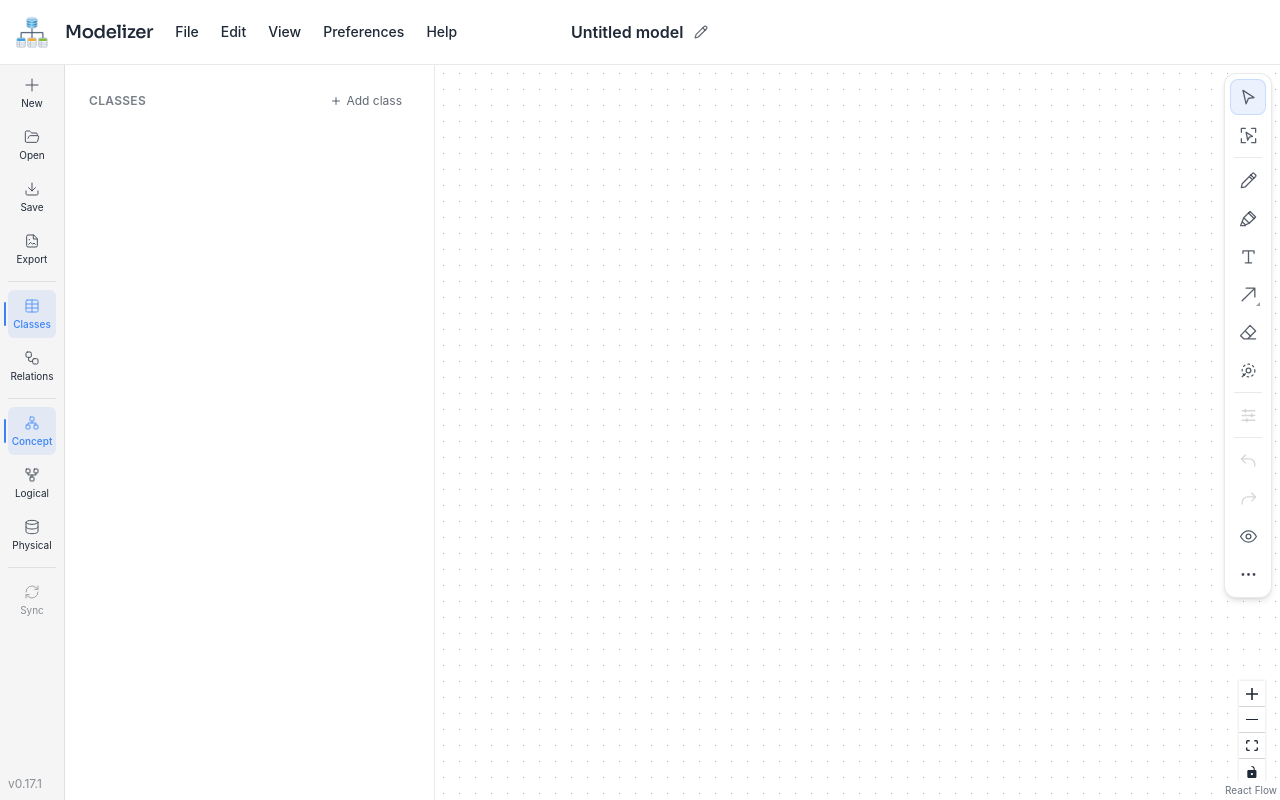
Scenario: annotation editor integration › returns to a clean model after undoing the only annotation
The width and height of the screenshot is (1280, 800).
Step 1. Click the button named "Choose shape" → (1248,294), box left=1230, top=276, right=1266, bottom=312
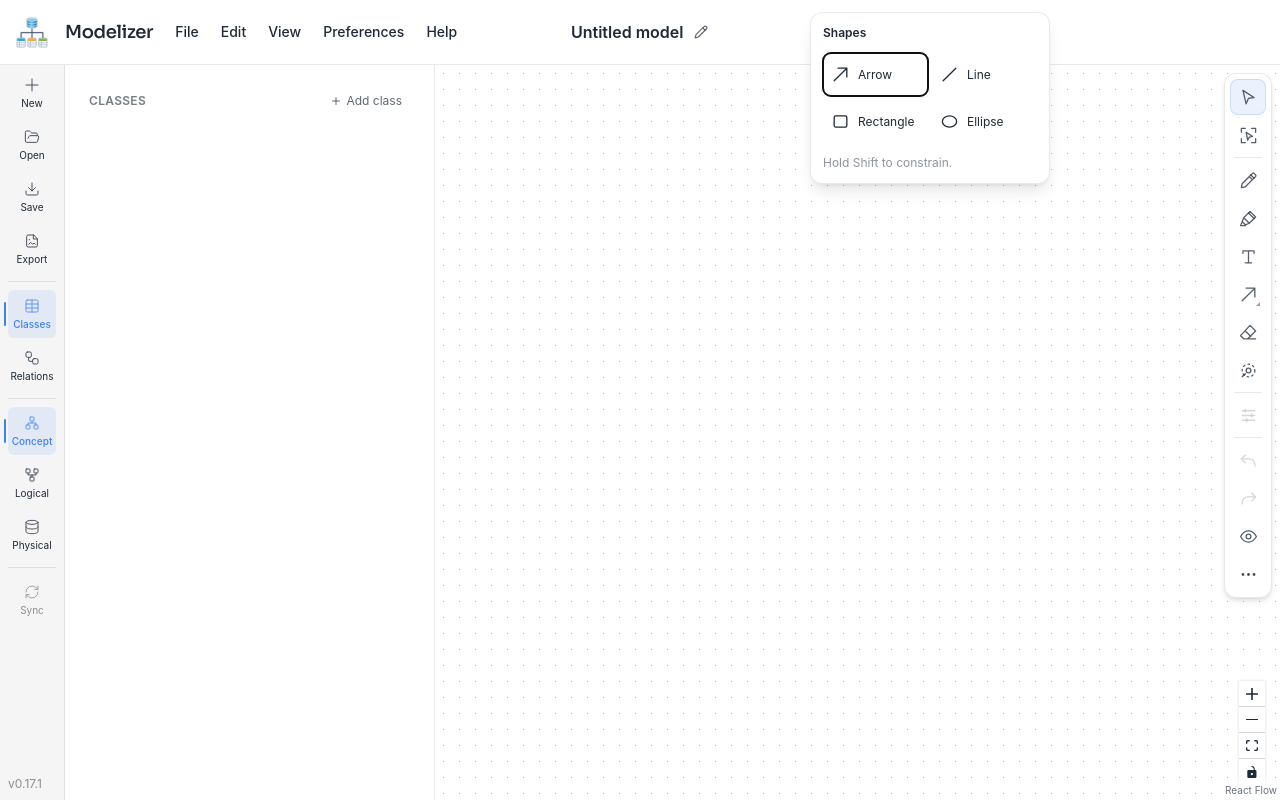
Step 2. Click the button "Rectangle" → (876,122), box left=823, top=100, right=928, bottom=143
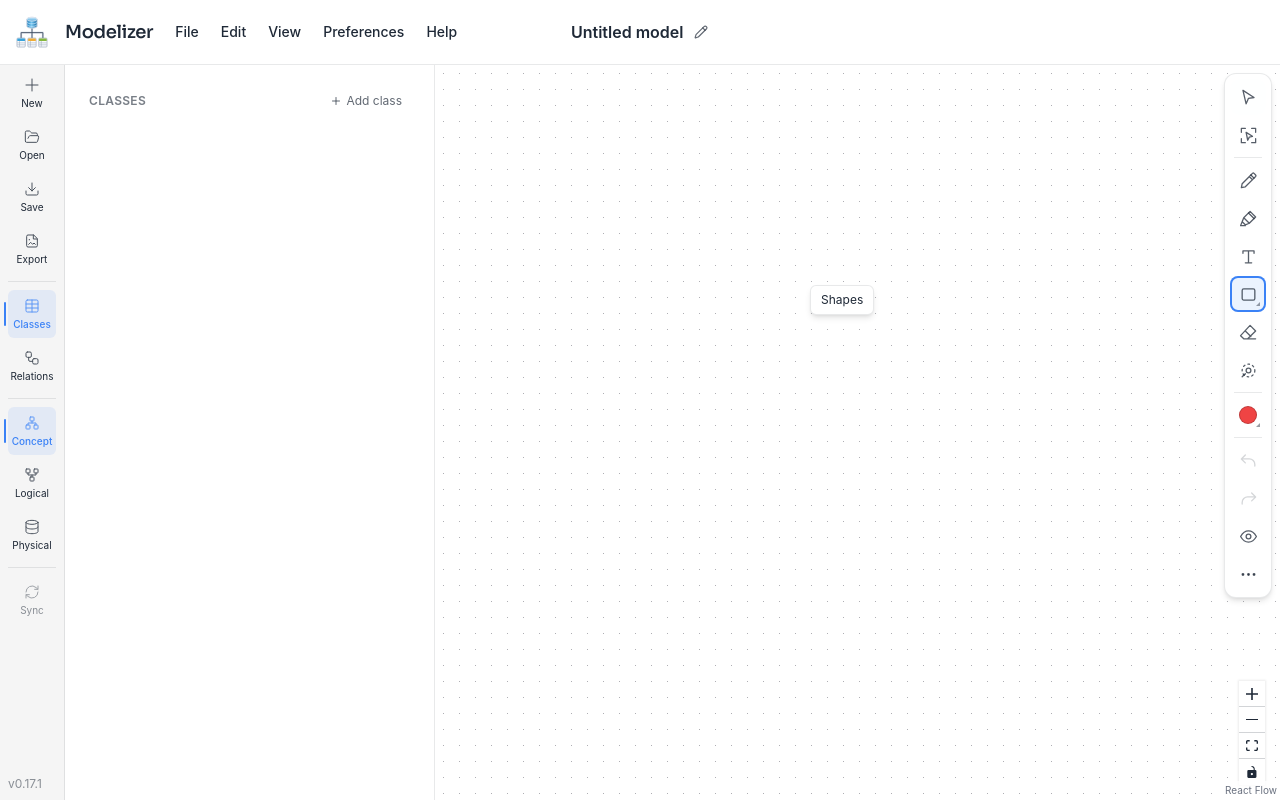
Step 3. Press the mouse on the element with class "react-flow__annotation-layer" → (858,432), box left=435, top=65, right=1279, bottom=799
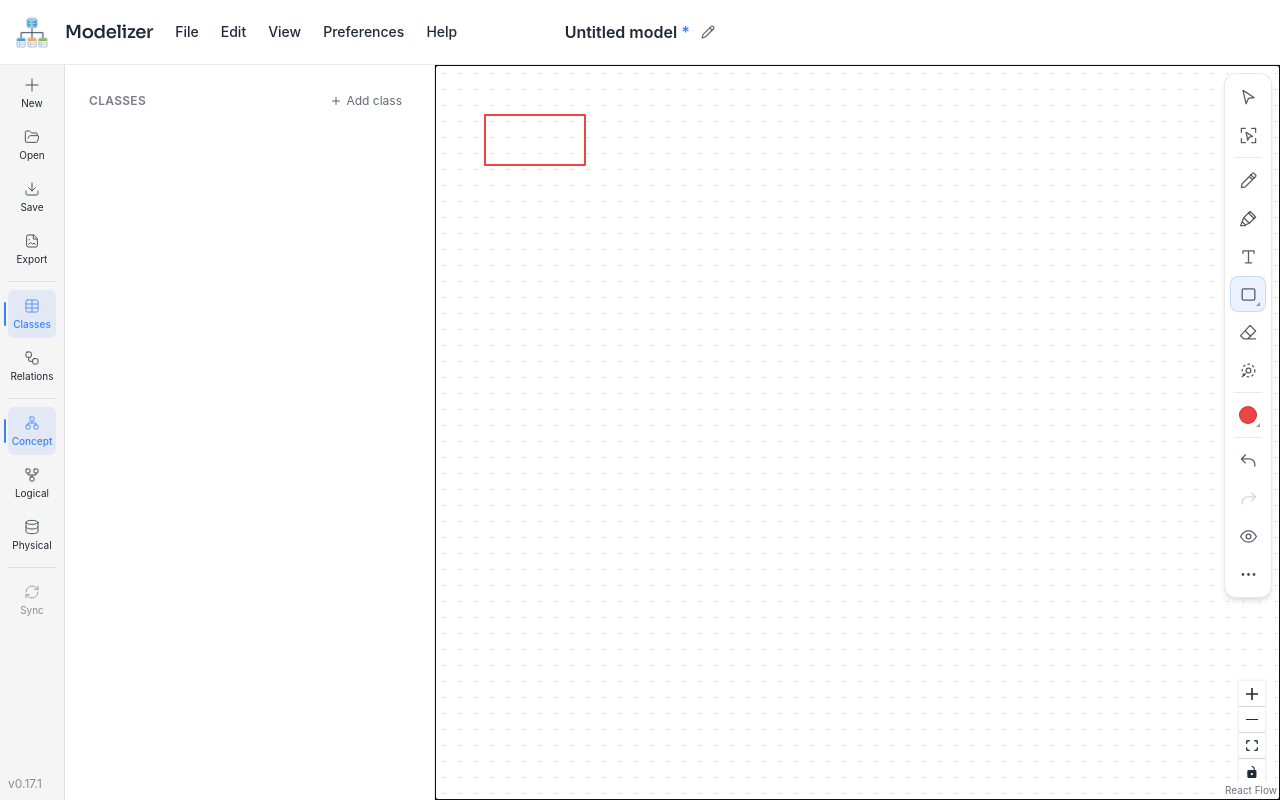
Now the text "*" is shown, box left=681, top=20, right=690, bottom=44
Step 4. Click the button named "Undo" → (1248,460), box left=1230, top=442, right=1266, bottom=478
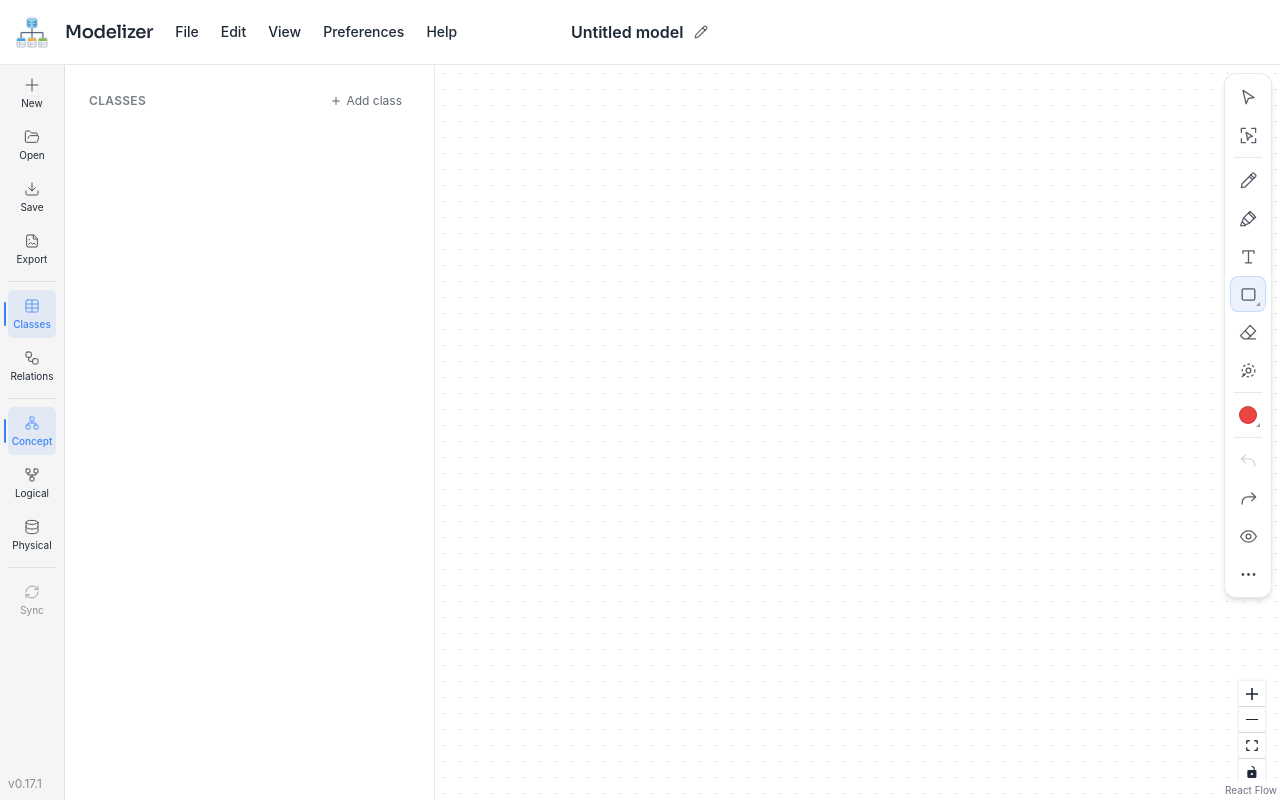
Now the text "*" is gone
